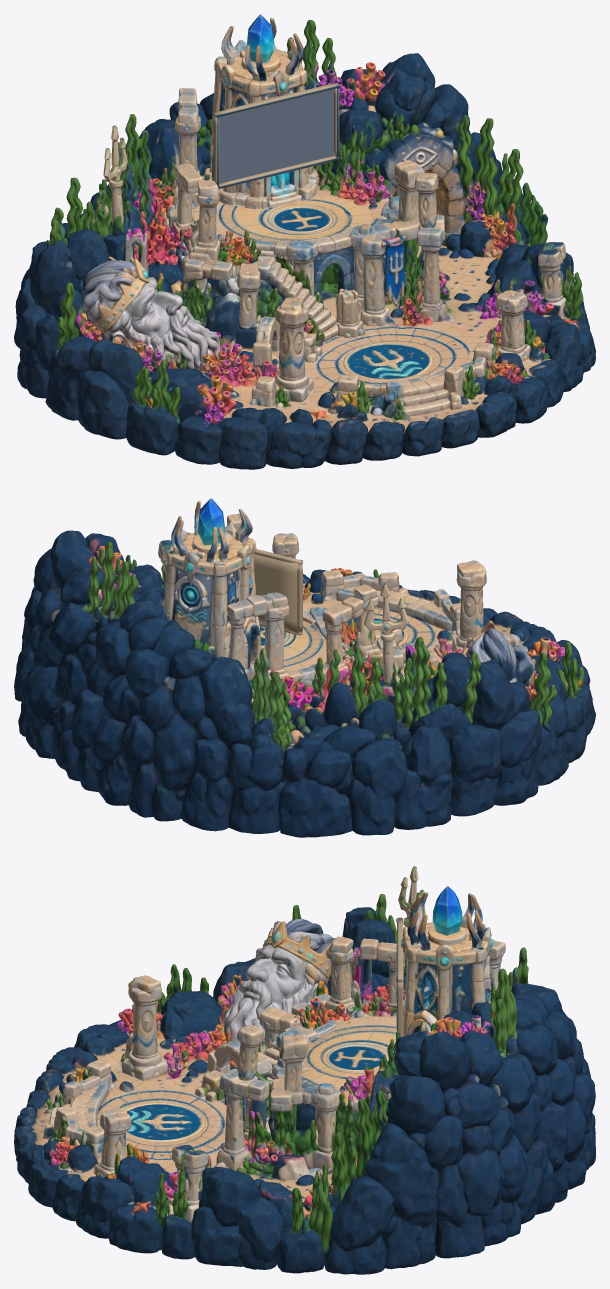
File: Atlantis_A_screen.delitL2.glb
The picture shows the model from 3 angles, top to bottom: view 1: azimuth 30°, elevation 25°; view 2: azimuth 150°, elevation 25°; view 3: azimuth 270°, elevation 25°; orthographic projection. The views are drawn at different scales.
Visible parts, largest first — view 1: atlantis, kfb_screen_slot, kfb_screen_frame; view 2: atlantis, kfb_screen_frame; view 3: atlantis, kfb_screen_frame.
Part boxes in pixels (x1,y1,x2,y2): atlantis: [14, 14, 595, 469]; kfb_screen_slot: [219, 89, 334, 183]; kfb_screen_frame: [213, 83, 339, 189]; atlantis: [14, 498, 595, 837]; kfb_screen_frame: [187, 532, 302, 635]; atlantis: [14, 866, 595, 1274]; kfb_screen_frame: [396, 917, 403, 1036].
Size of the model in its own units: 1.9 by 0.9751 by 1.85.
Materials: 4 (1 with a texture image).
